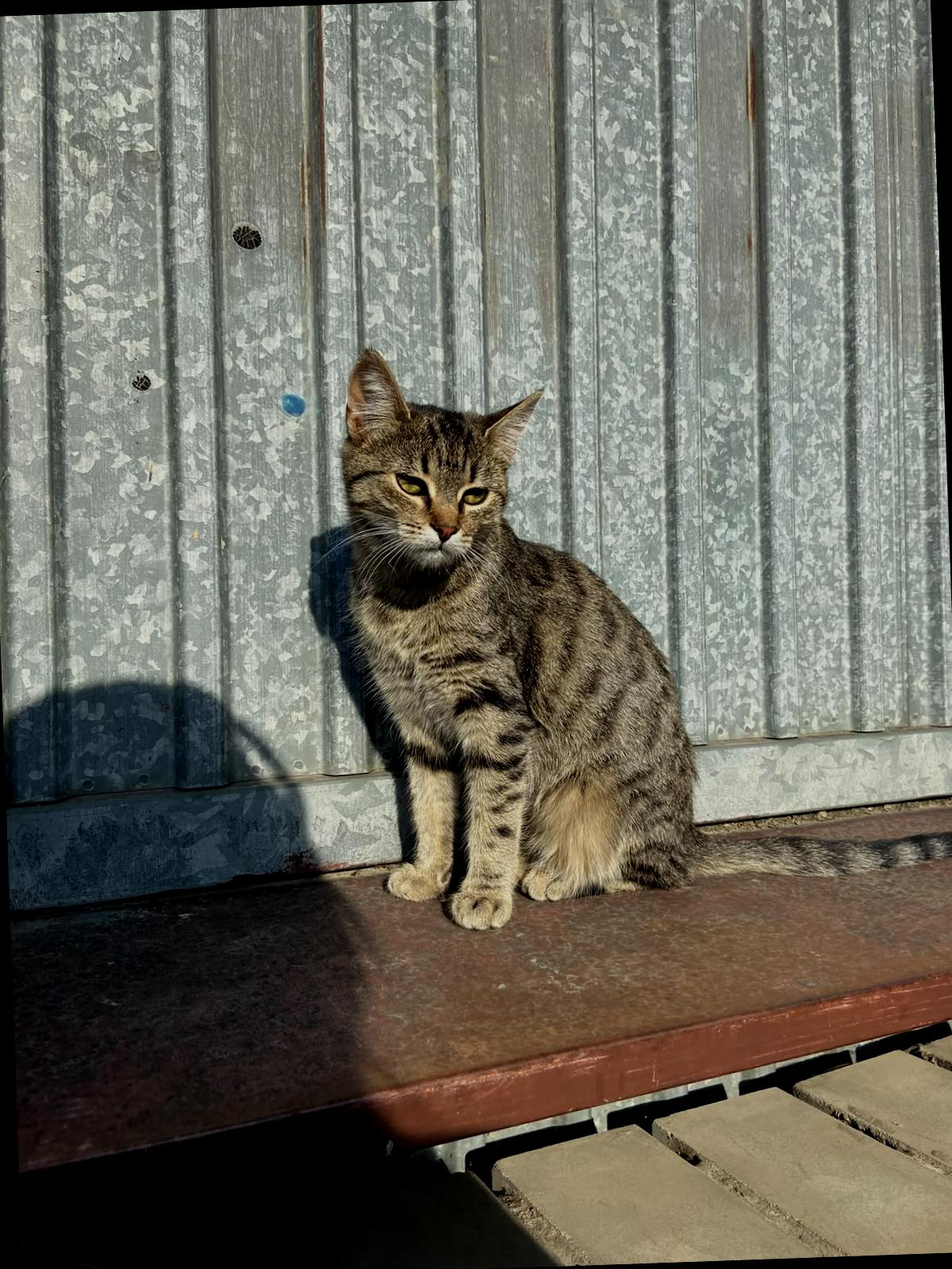macka: (336, 327, 952, 930)
